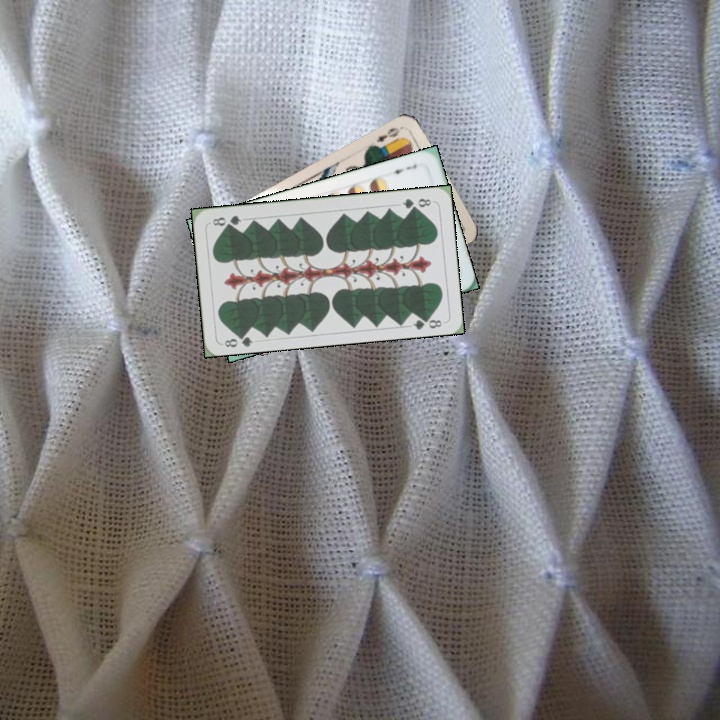E7: (385, 160, 419, 177)
EO: (372, 123, 405, 145)
G8: (219, 329, 255, 350), (398, 194, 434, 212)
